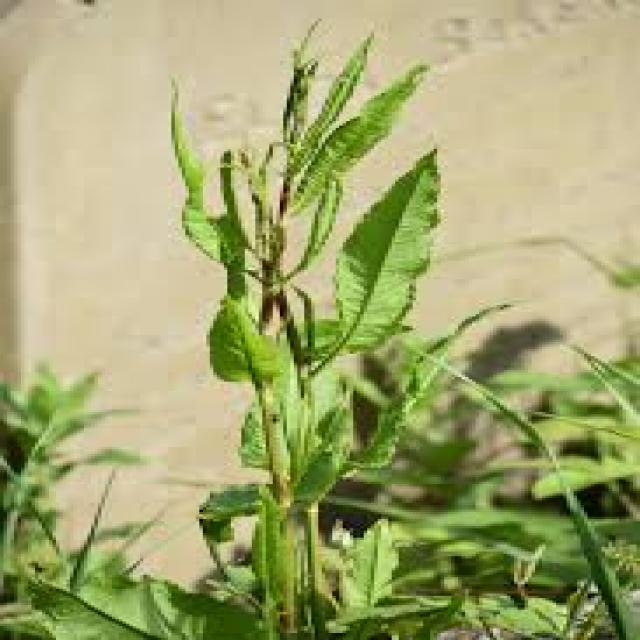organic waste: (70, 14, 598, 640)
